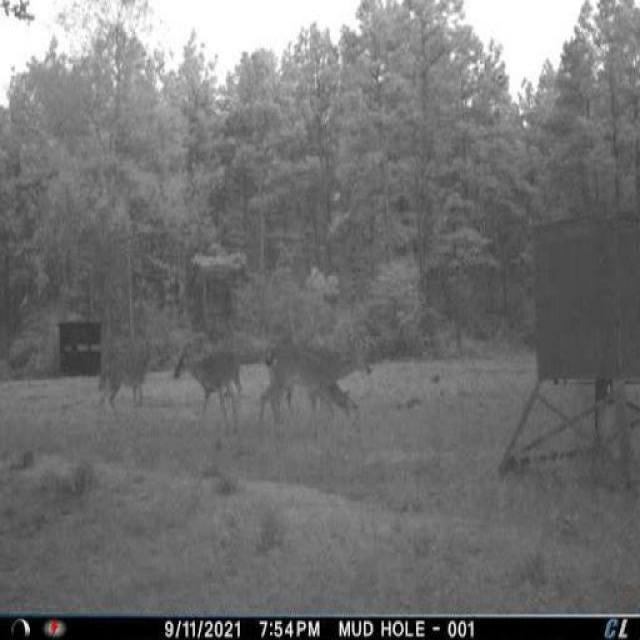deer: (260, 331, 381, 428), (172, 338, 246, 423), (95, 331, 159, 417)
